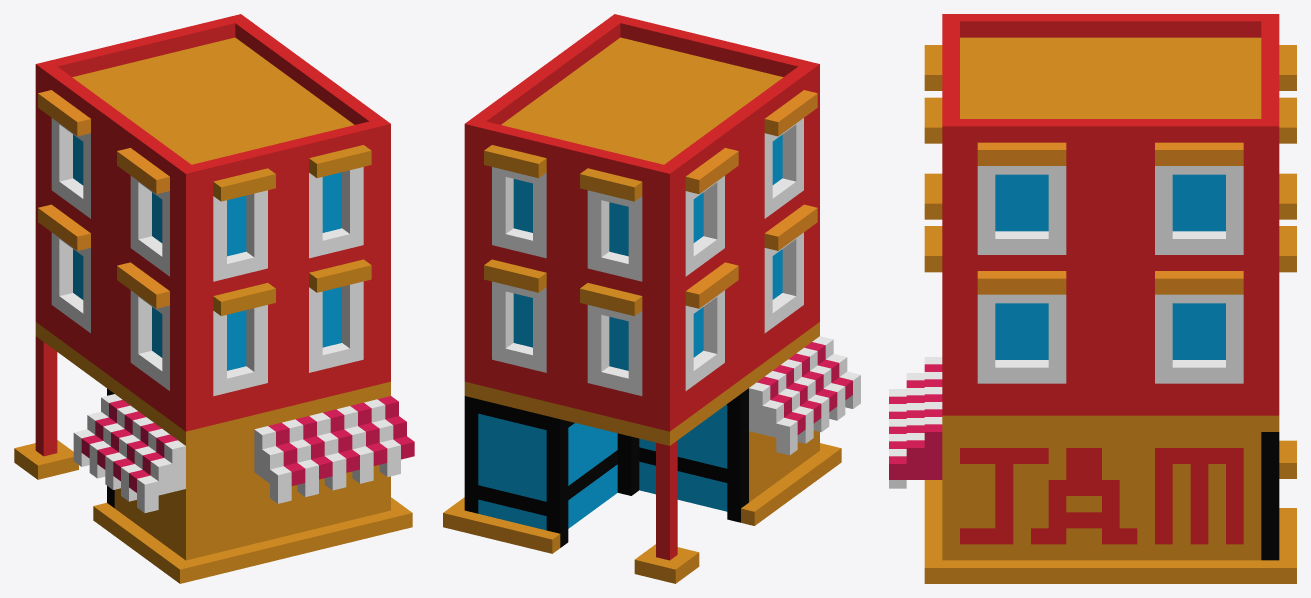
File: Mcdonload.obj
The picture shows the model from 3 angles, left to right: view 1: azimuth 30°, elevation 25°; view 2: azimuth 150°, elevation 25°; view 3: azimuth 270°, elevation 25°; orthographic projection. The views are drawn at different scales.
Parts seen in each view (by area): view 1: Mcdonload; view 2: Mcdonload; view 3: Mcdonload.
Boxes of the visible parts, <box> form: Mcdonload: <box>14,14,414,583</box>; Mcdonload: <box>443,14,860,583</box>; Mcdonload: <box>889,14,1296,583</box>.
Bounding box in the file's own units: 19 × 28 × 23.
Materials: 1 (1 with a texture image).
